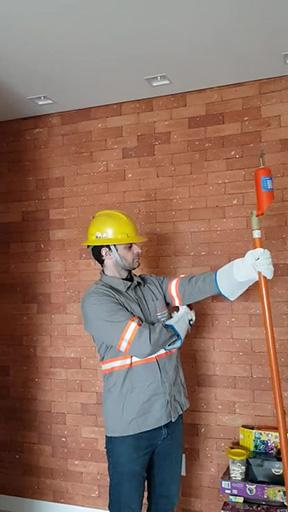Detector_Tensao_Contato: (254, 148, 275, 218)
Vara_Manobra: (247, 211, 288, 500)
